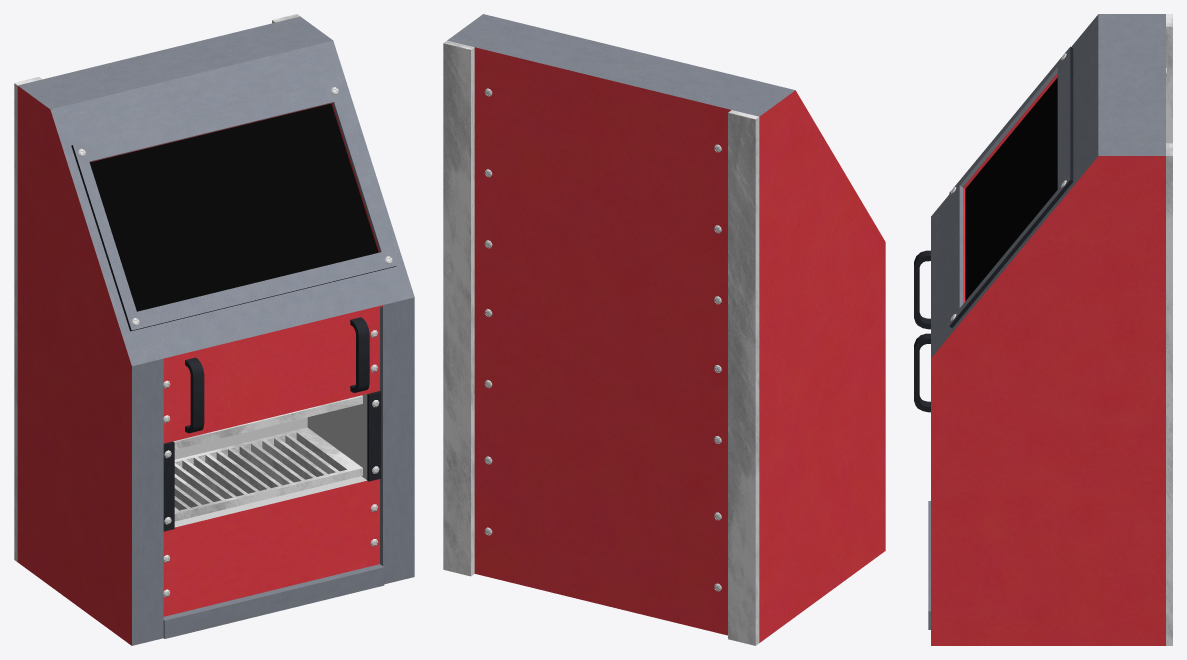
File: PTT Show Selector.fbx
3 views of the same model, side by side, from view 1: azimuth 30°, elevation 25°; view 2: azimuth 150°, elevation 25°; view 3: azimuth 270°, elevation 25° (orthographic). The views are drawn at different scales.
Visible parts, largest first — view 1: Cube.002; view 2: Cube.002; view 3: Cube.002.
Boxes of the visible parts, left/top/right/bottom form: Cube.002: left=14, top=14, right=414, bottom=645; Cube.002: left=443, top=14, right=885, bottom=645; Cube.002: left=914, top=14, right=1172, bottom=645.
Size of the model in its own units: 36.4 by 58.63 by 28.06.
